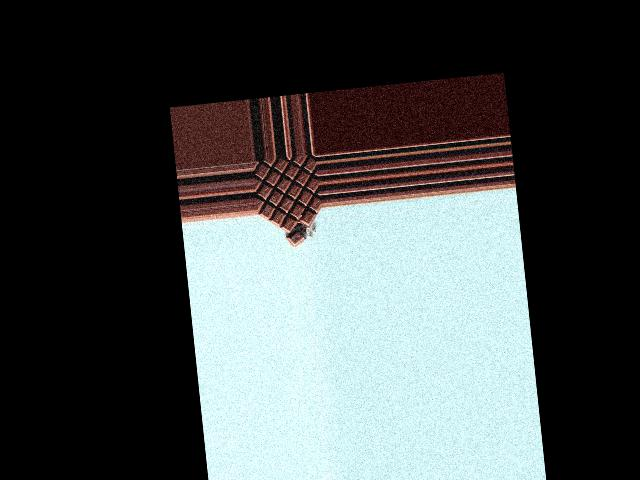chocolate: (254, 153, 322, 241)
